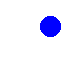circle: (40, 16, 60, 36)
